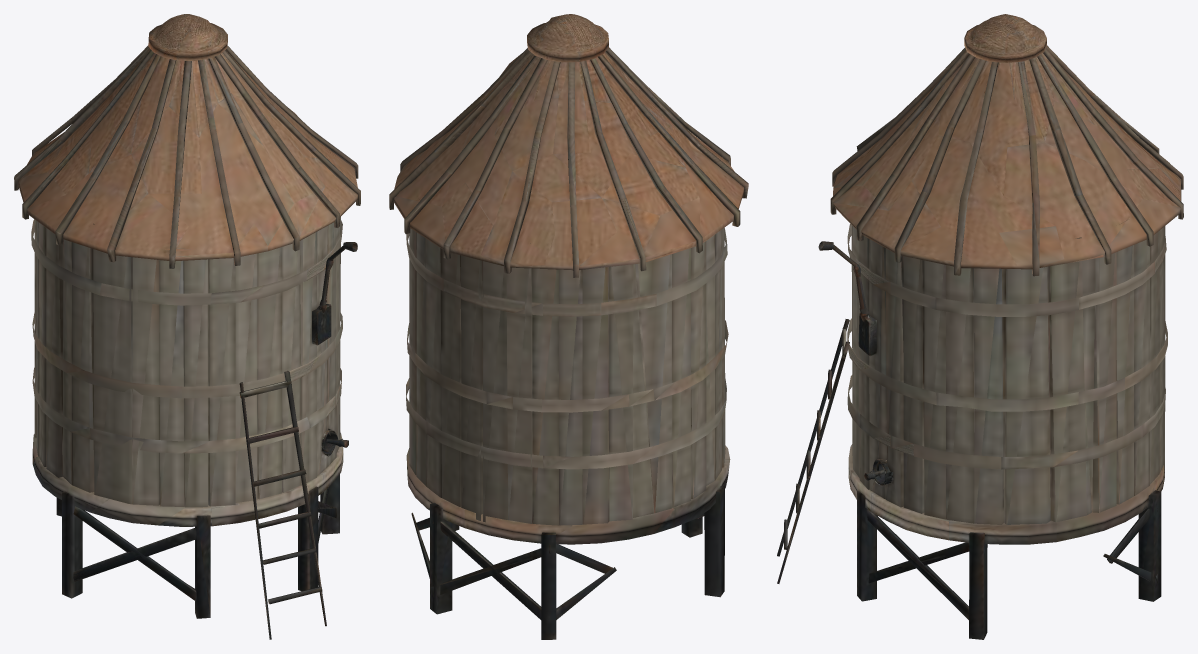
The model's file is water_tank.glb.
3 renders of one model, left to right at view 1: azimuth 30°, elevation 25°; view 2: azimuth 150°, elevation 25°; view 3: azimuth 270°, elevation 25°, orthographic. The views are drawn at different scales.
Bounding box in the file's own units: 2.89 × 5 × 3.33.
1 material, 1 textured.
